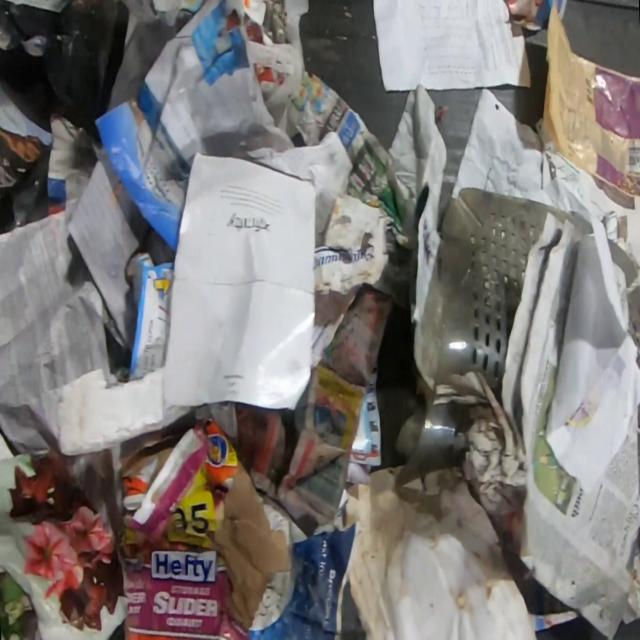cardboard: (313, 82, 448, 324), (116, 421, 249, 640), (208, 468, 294, 631), (119, 440, 179, 513), (204, 420, 246, 492)
rigid_plastic: (434, 185, 578, 390), (393, 400, 476, 493)
soft_plastic: (541, 0, 640, 200), (0, 0, 129, 146), (7, 141, 52, 228)
